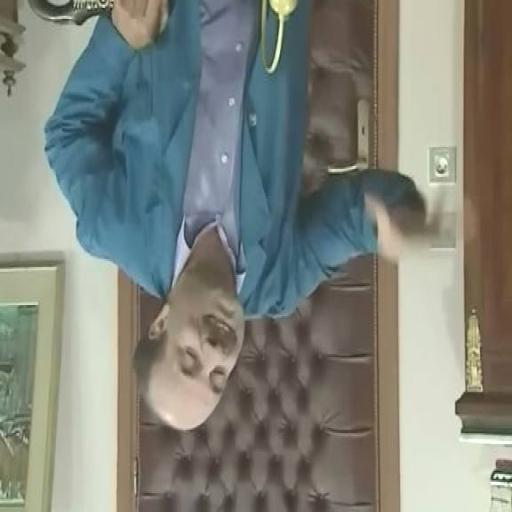beji_matrix: (135, 272, 244, 430)
